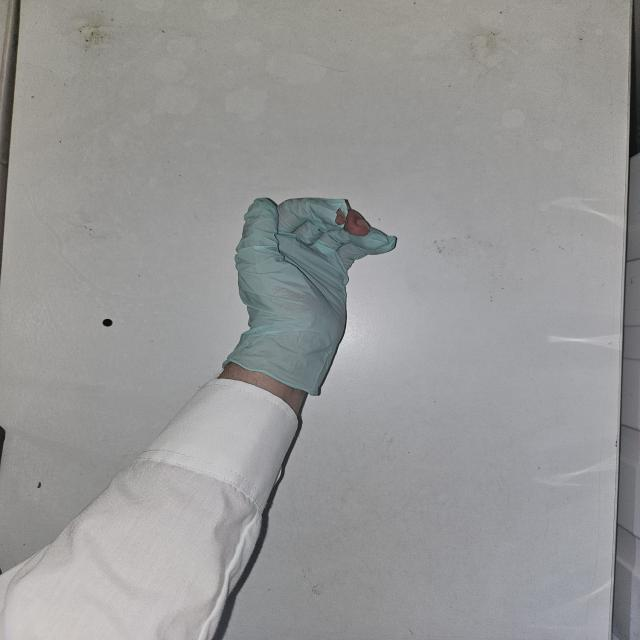gloves_damaged: (219, 194, 400, 400)
